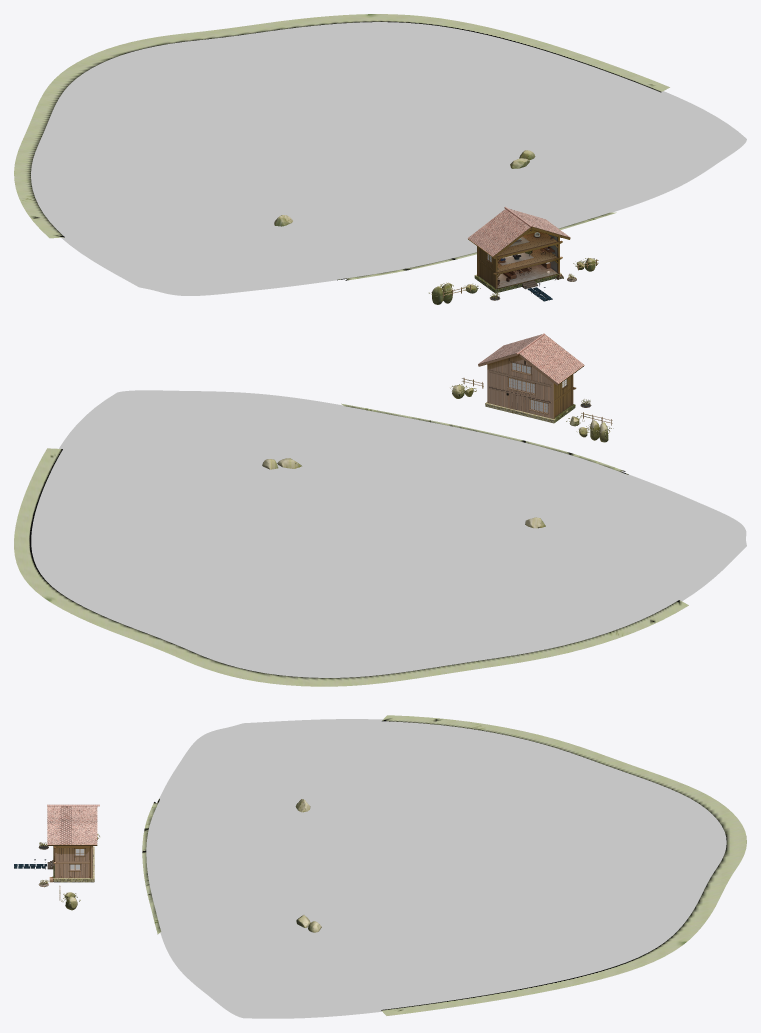
File: house.glb
The picture shows the model from 3 angles, top to bottom: view 1: azimuth 30°, elevation 25°; view 2: azimuth 150°, elevation 25°; view 3: azimuth 270°, elevation 25°; orthographic projection. The views are drawn at different scales.
Visible parts, largest first — view 1: Lake.001, BAKED_land, BAKED_house, BAKED_boards, BAKED_floors; view 2: Lake.001, BAKED_land, BAKED_house; view 3: Lake.001, BAKED_land, BAKED_house.
Part boxes in pixels (x1,y1,x2,y2): Lake.001: [31, 22, 746, 295]; BAKED_land: [14, 14, 669, 304]; BAKED_house: [467, 206, 570, 293]; BAKED_boards: [497, 231, 557, 271]; BAKED_floors: [497, 236, 558, 288]; Lake.001: [31, 390, 746, 677]; BAKED_land: [14, 377, 688, 686]; BAKED_house: [478, 333, 584, 423]; Lake.001: [146, 719, 726, 1018]; BAKED_land: [59, 715, 746, 1015]; BAKED_house: [47, 804, 99, 882].
Bounding box in the file's own units: 97.53 × 11.22 × 99.48.
11 materials, 9 textured.
